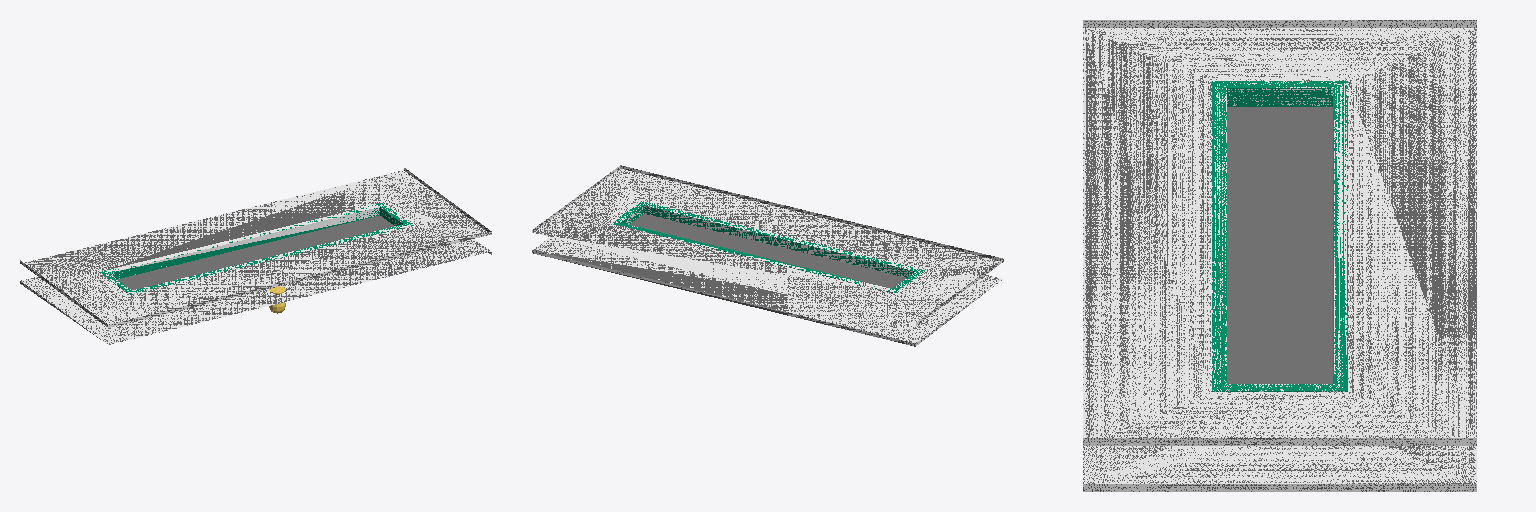
The robot description file, URDF, robot "right-push-door":
<robot name="right-push-door">
	<link name="base" />
	<link name="link_0">
		<visual name="out-frame">
			<origin xyz="0 0 0" />
			<geometry>
				<mesh filename="texture_dae/frame.dae" scale="0.9340315474601226 0.9340315474601226 0.9340315474601226" />
			</geometry>
		</visual>
		<collision>
			<origin xyz="0 0 0" />
			<geometry>
				<mesh filename="texture_dae/frame.dae" scale="0.9340315474601226 0.9340315474601226 0.9340315474601226" />
			</geometry>
		</collision>
	</link>
	<joint name="joint_0" type="fixed">
		<origin rpy="1.570796326794897 0 -1.570796326794897" xyz="0 0 0" />
		<child link="link_0" />
		<parent link="base" />
	</joint>
	<link name="link_1">
		<visual name="surf-board">
			<origin xyz="0.3266300493786529 -0.815417453139363 0" />
			<geometry>
				<mesh filename="texture_dae/board.dae" scale="0.9340315474601226 0.9340315474601226 0.9340315474601226" />
			</geometry>
		</visual>
		<collision>
			<origin xyz="0.3266300493786529 -0.815417453139363 0" />
			<geometry>
				<mesh filename="texture_dae/board.dae" scale="0.9340315474601226 0.9340315474601226 0.9340315474601226" />
			</geometry>
		</collision>
	</link>
	<joint name="joint_1" type="revolute">
		<origin xyz="-0.3266300493786529 0.815417453139363 0" />
		<axis xyz="0 -1 0" />
		<child link="link_1" />
		<parent link="link_0" />
		<limit lower="-1.5079644737231006" upper="-0.0" />
	</joint>
	<link name="link_2">
		<visual name="handle">
			<origin xyz="0 0 0" />
			<geometry>
				<mesh filename="texture_dae/9962041.dae" scale="1.144007610645739 1.144007610645739 1.144007610645739" />
			</geometry>
		</visual>
		<collision>
			<origin xyz="0 0 0" />
			<geometry>
				<mesh filename="texture_dae/9962041.dae" scale="1.144007610645739 1.144007610645739 1.144007610645739" />
			</geometry>
		</collision>
	</link>
	<joint name="joint_2" type="revolute">
		<origin xyz="0.5702512860034737 -0.834965299869953 0.048382534547660595" />
		<child link="link_2" />
		<parent link="link_1" />
		<axis xyz="0 0 1" />
		<limit lower="0" upper="0" />
	</joint>
</robot>

--- Render facts (derived) ---
Views: 3 orthographic renders of the robot side by side, from view 1: azimuth 30°, elevation 25°; view 2: azimuth 150°, elevation 25°; view 3: azimuth 270°, elevation 25°.
Model right-push-door with 4 links and 3 joints (2 revolute, 1 fixed), rooted at base, posed every joint at zero.
Visible links, largest first — view 1: link_1; view 2: link_1; view 3: link_1.
Link boxes in pixels (x1=…): link_1: x1=20, y1=168, x2=491, y2=344; link_1: x1=532, y1=165, x2=1003, y2=346; link_1: x1=1083, y1=20, x2=1476, y2=491.
Bounding box of the posed robot: 1.64 × 0.6503 × 0.155 m (x, y, z).
Meshes: 3 distinct files referenced, 2 mesh visuals loaded (2 Collada DAE); not drawn: 1 (reference not matched to a file when rendering).
